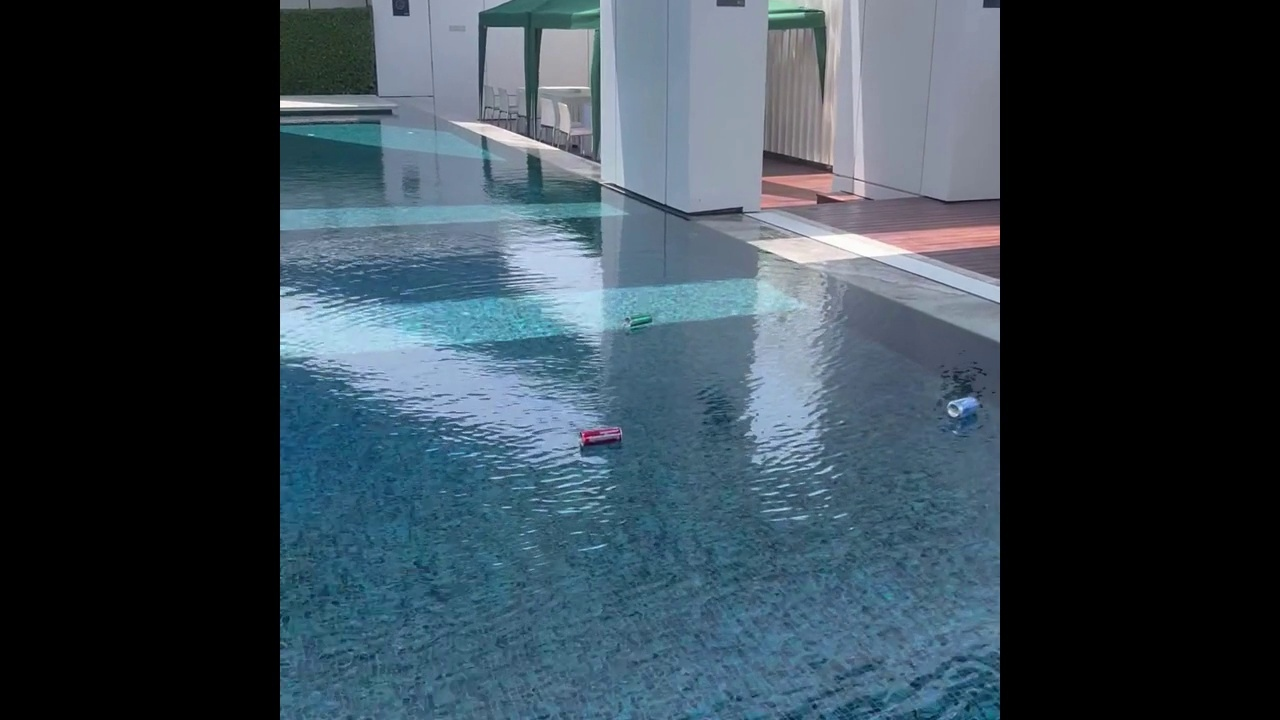debris: (573, 425, 626, 452), (942, 391, 982, 421), (621, 309, 654, 330)
